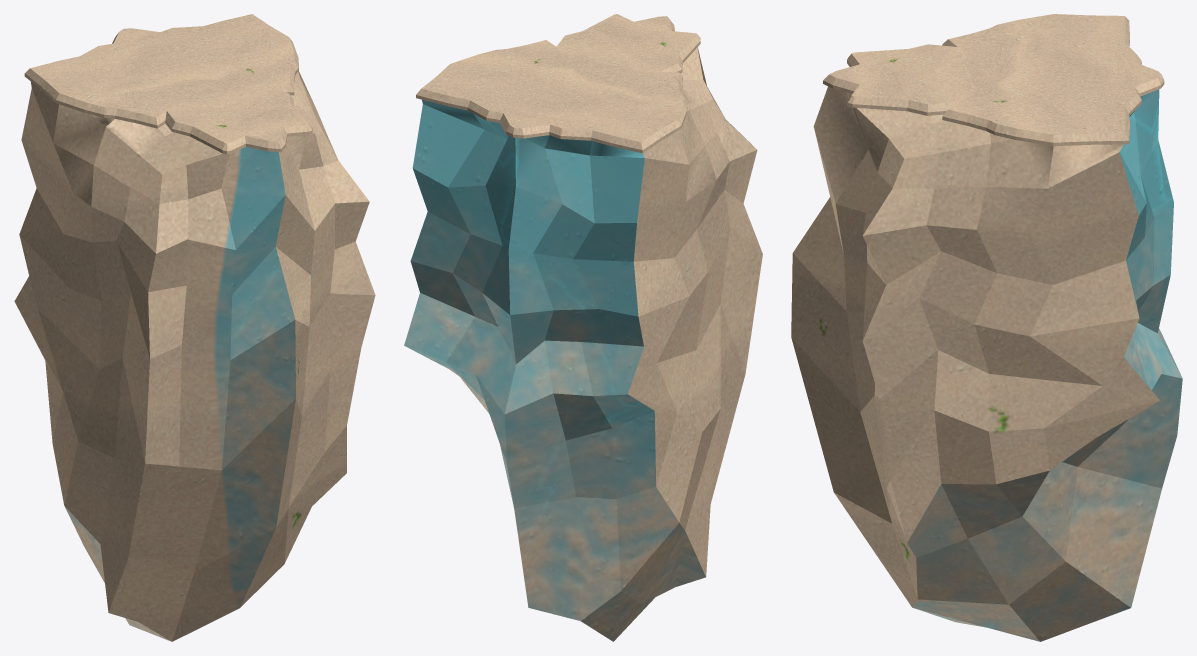
The model's file is props.fbx.
3 renders of one model, left to right at view 1: azimuth 30°, elevation 25°; view 2: azimuth 150°, elevation 25°; view 3: azimuth 270°, elevation 25°, orthographic. The views are drawn at different scales.
Visible parts, largest first — view 1: Box004; view 2: Box004; view 3: Box004.
Boxes of the visible parts, x1=… form: Box004: x1=14, y1=14, x2=375, y2=641; Box004: x1=404, y1=14, x2=762, y2=641; Box004: x1=791, y1=14, x2=1182, y2=641.
Bounding box in the file's own units: 568 × 1197 × 722.
